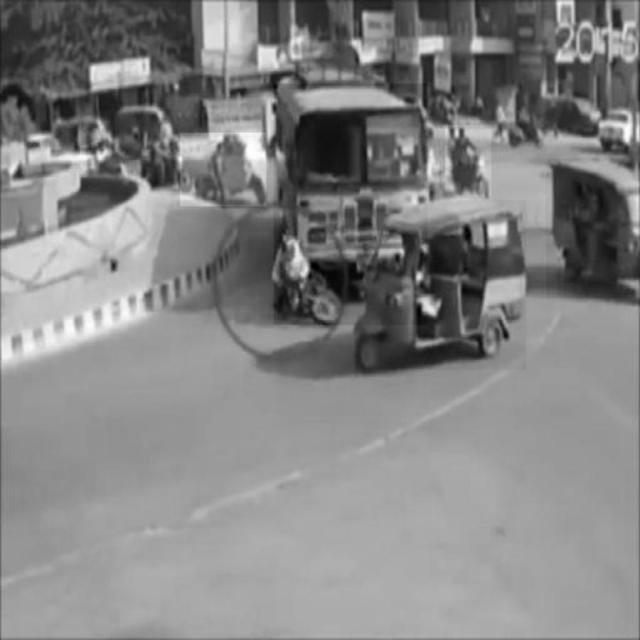accident: (274, 84, 428, 325)
vehicle: (356, 200, 526, 370), (547, 159, 640, 299), (181, 133, 267, 206), (445, 125, 491, 196)
